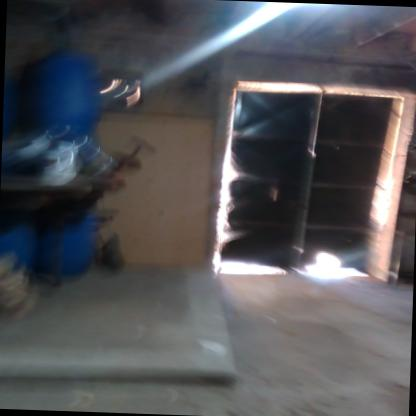closed: (213, 59, 412, 302)
